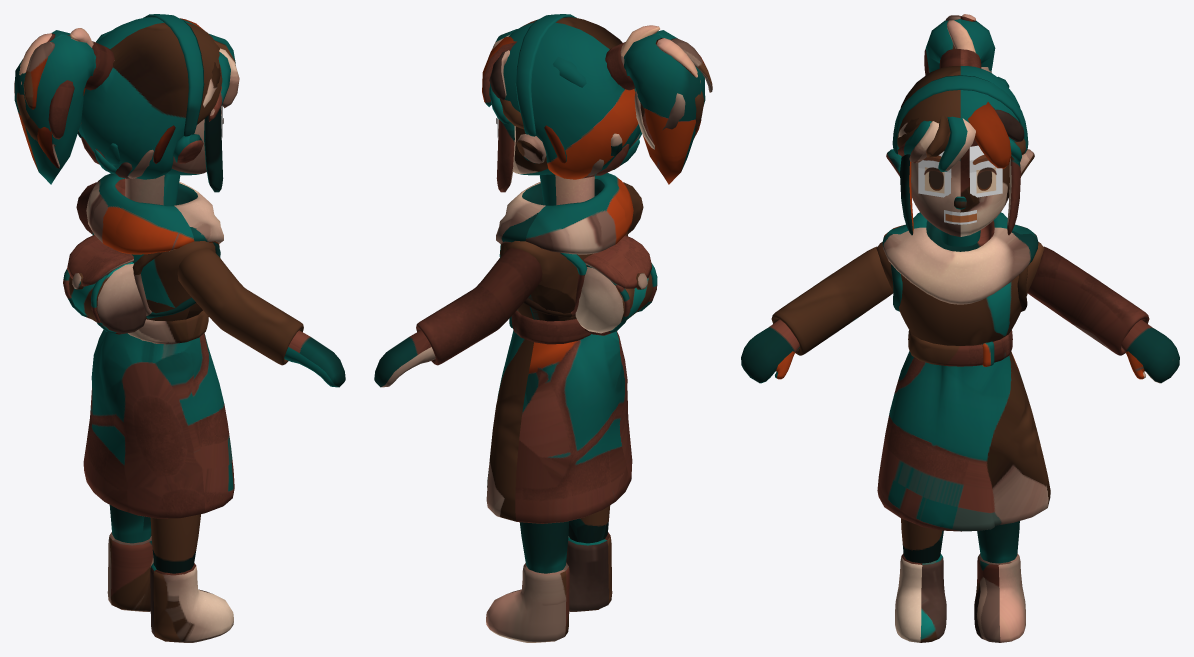
Rendered from NyraStatic.fbx.
The picture shows the model from 3 angles, left to right: view 1: azimuth 30°, elevation 25°; view 2: azimuth 150°, elevation 25°; view 3: azimuth 270°, elevation 25°; orthographic projection. The views are drawn at different scales.
Parts seen in each view (by area): view 1: Nyra; view 2: Nyra; view 3: Nyra.
Boxes of the visible parts, x1,y1,x2,y2 form: Nyra: (14,14,345,642); Nyra: (374,14,712,642); Nyra: (741,14,1179,642).
Bounding box in the file's own units: 60.31 × 161 × 114.
3 materials, 3 textured.
